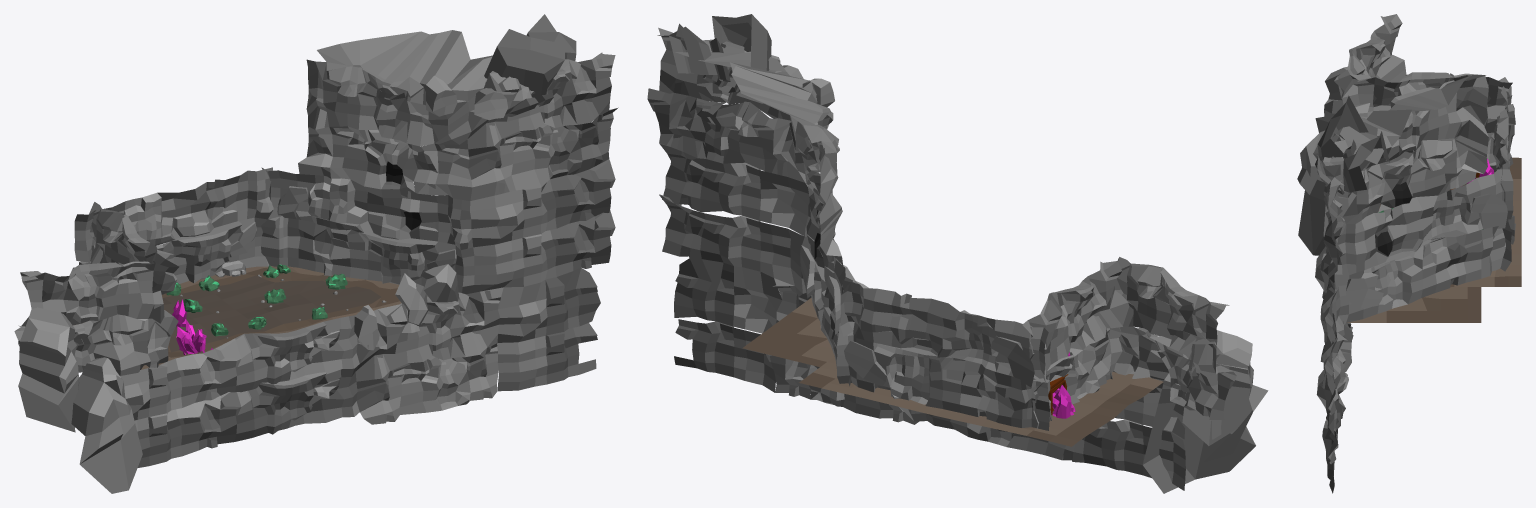
File: Enviroment.fbx
3 views of the same model, side by side, from view 1: azimuth 30°, elevation 25°; view 2: azimuth 150°, elevation 25°; view 3: azimuth 270°, elevation 25° (orthographic). The views are drawn at different scales.
Parts seen in each view (by area): view 1: Plane.006, Plane.001, Plane.005, Plane.008, Plane.004, Plane, Plane.003, Plane.007, Cube.013; view 2: Plane.006, Plane.004, Plane.005, Plane, Plane.008, Plane.003, Plane.001; view 3: Plane.006, Plane.001, Plane.005, Plane, Plane.008, Plane.003, Plane.004.
Boxes of the visible parts, x1,y1,x2,y2 form: Plane.006: (120,30,618,467); Plane.001: (261,167,474,294); Plane.005: (14,202,179,375); Plane.008: (18,307,142,493); Plane.004: (74,167,273,283); Plane: (74,265,401,369); Plane.003: (484,14,576,116); Plane.007: (354,305,379,350); Cube.013: (176,319,206,354); Plane.006: (647,27,1185,490); Plane.004: (837,280,1050,430); Plane.005: (1022,257,1236,428); Plane: (742,298,1163,446); Plane.008: (1142,330,1268,493); Plane.003: (669,14,771,103); Plane.001: (800,197,853,386); Plane.006: (1315,75,1488,493); Plane.001: (1335,169,1513,328); Plane.005: (1334,14,1512,177); Plane: (1347,157,1521,322); Plane.008: (1297,55,1406,255); Plane.003: (1313,95,1389,194); Plane.004: (1493,77,1515,271).
Bounding box in the file's own units: 6835 × 3996 × 2242.
